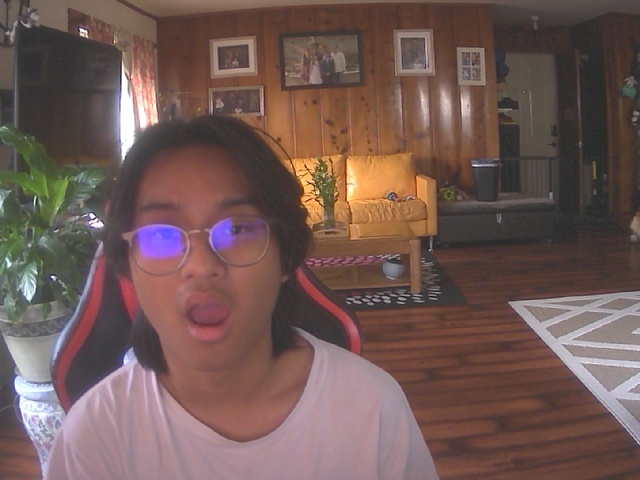fear: (119, 127, 300, 377)
